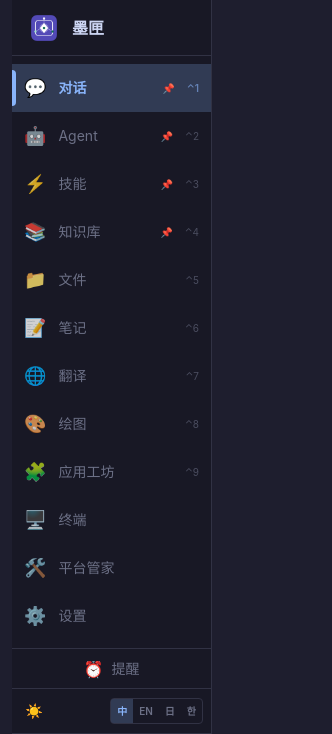
Test: 右键菜单：固定不被休眠 › 固定数达上限时第 5 个不可点（不静默丢弃用户的动作）
The width and height of the screenshot is (332, 734).
Right-click the button labelled "⚙️ 设置": (112, 616) [12,592,211,640]
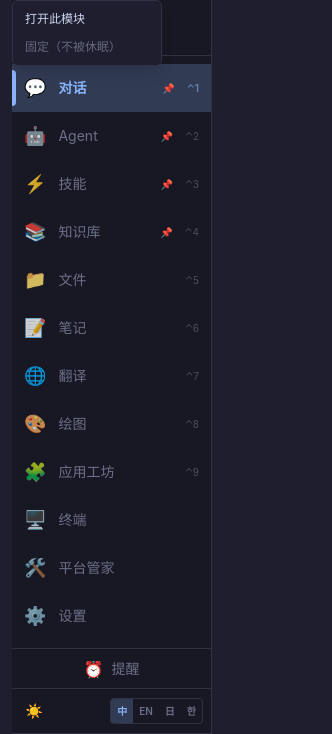
Check: the button "固定（不被休眠）" is disabled, box [13,33,161,61]
